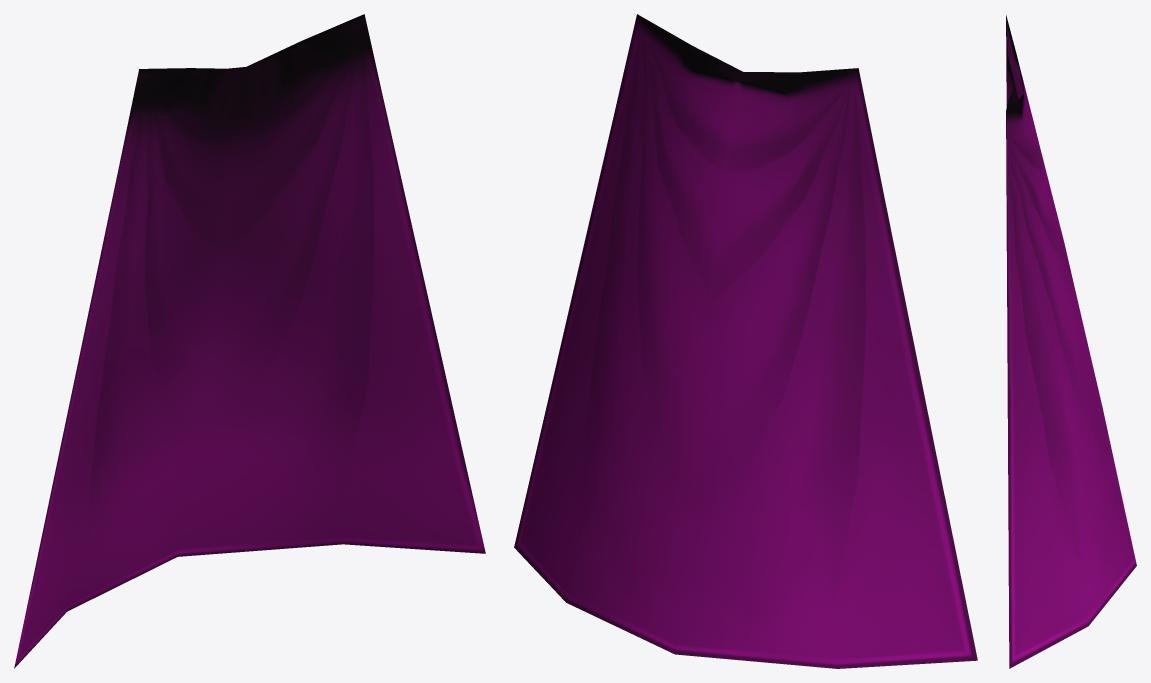
The model's file is guo_shing_ya_cape.FBX.
3 views of the same model, side by side, from view 1: azimuth 30°, elevation 25°; view 2: azimuth 150°, elevation 25°; view 3: azimuth 270°, elevation 25° (orthographic). The views are drawn at different scales.
Visible parts, largest first — view 1: Cape; view 2: Cape; view 3: Cape.
Boxes of the visible parts, <box> form: Cape: <box>14,14,485,668</box>; Cape: <box>514,14,977,668</box>; Cape: <box>1006,15,1136,668</box>.
Bounding box in the file's own units: 0.9649 × 1.12 × 0.2626.
